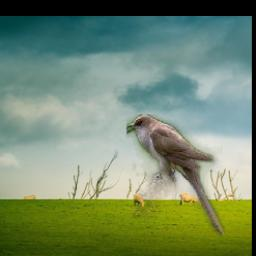Cuckoo: (125, 115, 224, 236)
